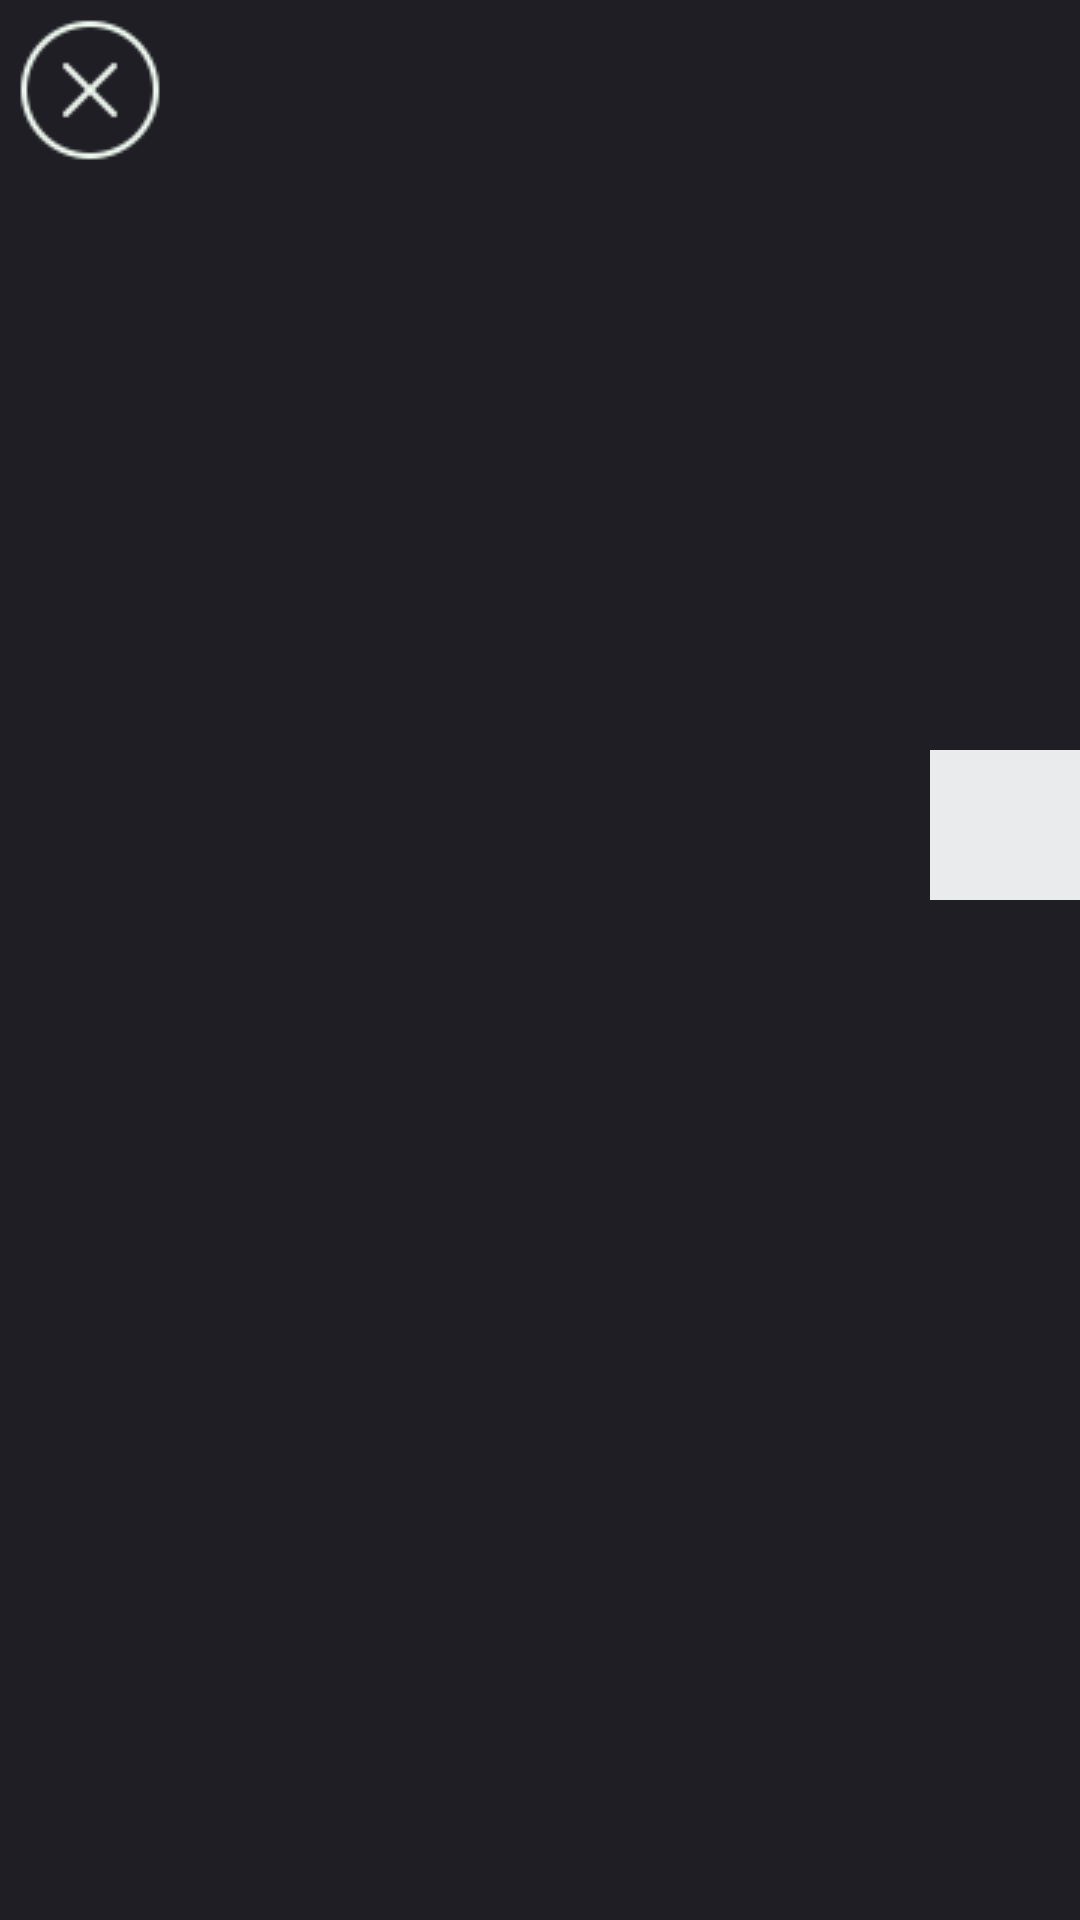

Icons on this 1080x1920 Android screen, each with its box as (x1, y1, x2, y2):
cancel: (20, 20, 160, 160)
